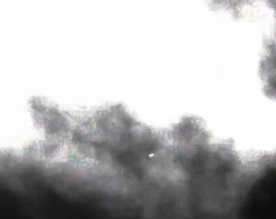Target: (149, 153, 153, 156)
